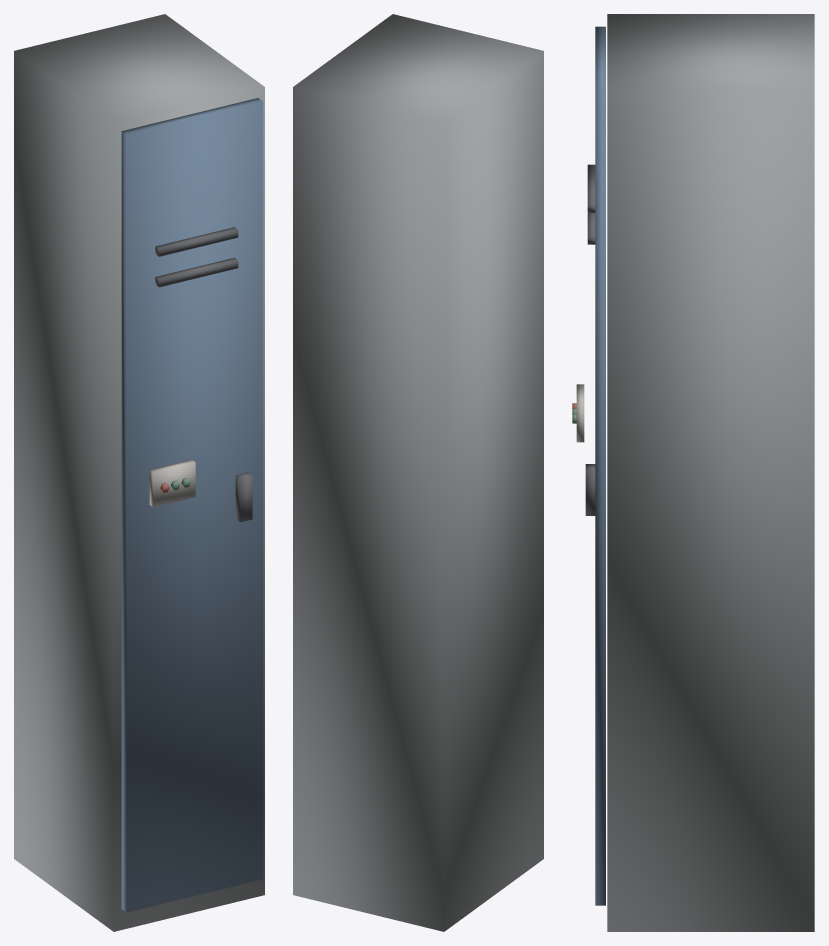
File: single_locker__tall.glb
The picture shows the model from 3 angles, left to right: view 1: azimuth 30°, elevation 25°; view 2: azimuth 150°, elevation 25°; view 3: azimuth 270°, elevation 25°; orthographic projection. The views are drawn at different scales.
Visible parts, largest first — view 1: world; view 2: world; view 3: world.
Part boxes in pixels (bbox=[...]): world: bbox=[14, 14, 264, 931]; world: bbox=[293, 14, 543, 931]; world: bbox=[572, 14, 814, 931].
Bounding box in the file's own units: 0.42 × 2.15 × 0.561.
